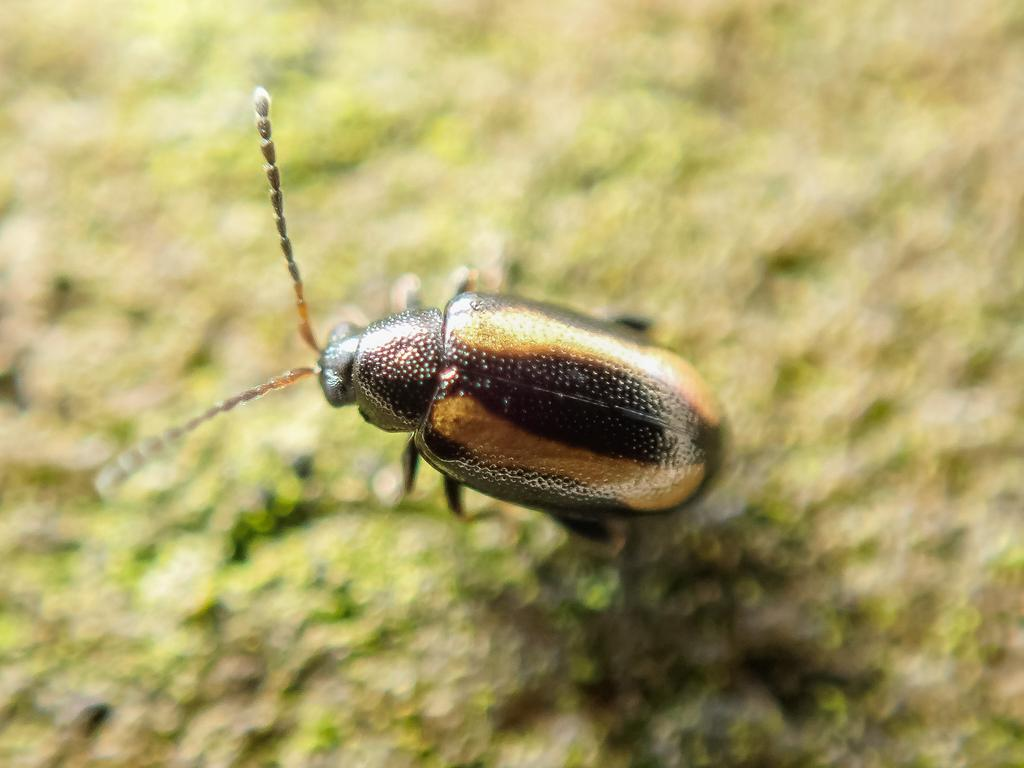flea_beetle: (66, 45, 789, 609)
